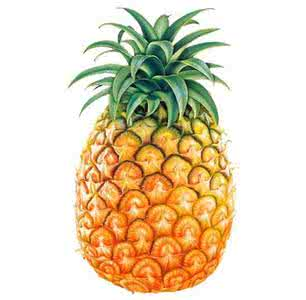pineapple: (77, 6, 236, 295)
